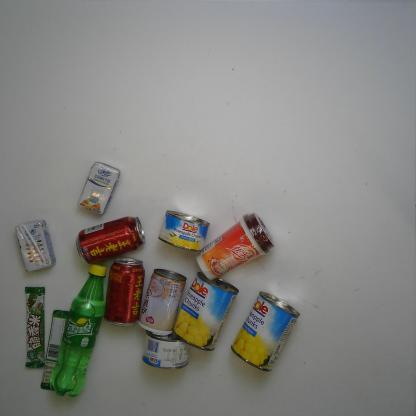Canned Food: (230, 291, 299, 373), (174, 273, 238, 352), (137, 268, 187, 336), (158, 211, 209, 251), (141, 333, 191, 370)
Chocolate: (40, 310, 69, 392), (22, 285, 48, 370)
Drink: (49, 263, 109, 398), (75, 217, 145, 266), (104, 257, 144, 328)
Instant Drink: (194, 212, 277, 280)
Milk: (14, 217, 58, 275), (76, 160, 121, 216)
